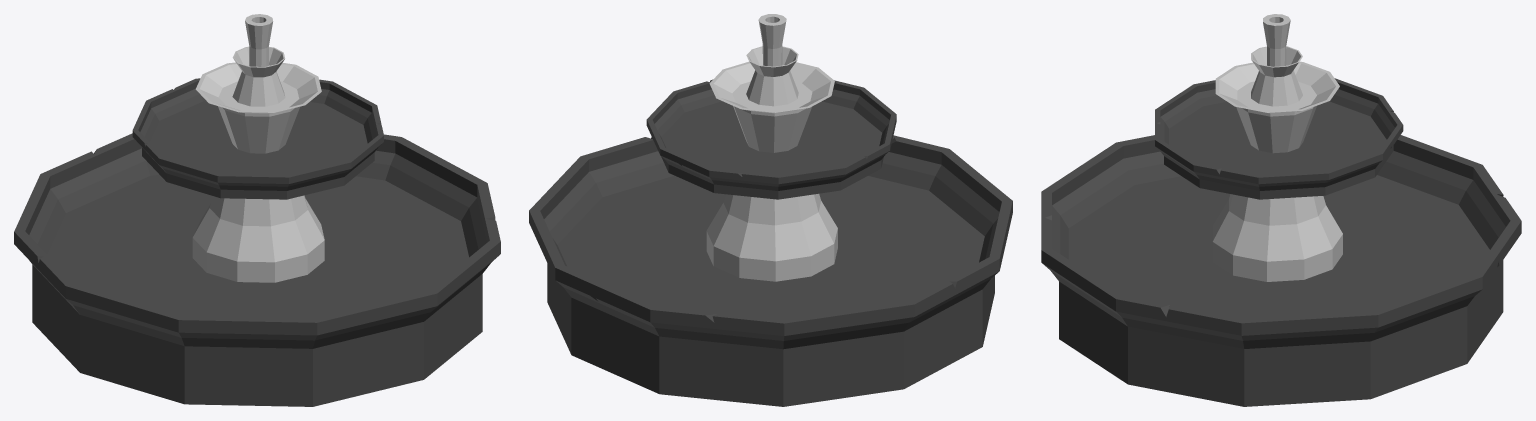
Rendered from Fountain.glb.
3 renders of one model, left to right at view 1: azimuth 30°, elevation 25°; view 2: azimuth 150°, elevation 25°; view 3: azimuth 270°, elevation 25°, orthographic.
Parts seen in each view (by area): view 1: Cylinder.002; view 2: Cylinder.002; view 3: Cylinder.002.
Boxes of the visible parts, x1=… form: Cylinder.002: x1=14, y1=14, x2=500, y2=406; Cylinder.002: x1=529, y1=14, x2=1012, y2=406; Cylinder.002: x1=1041, y1=14, x2=1521, y2=406.
Size of the model in its own units: 7.76 by 5.16 by 7.69.
2 materials, 2 textured.
